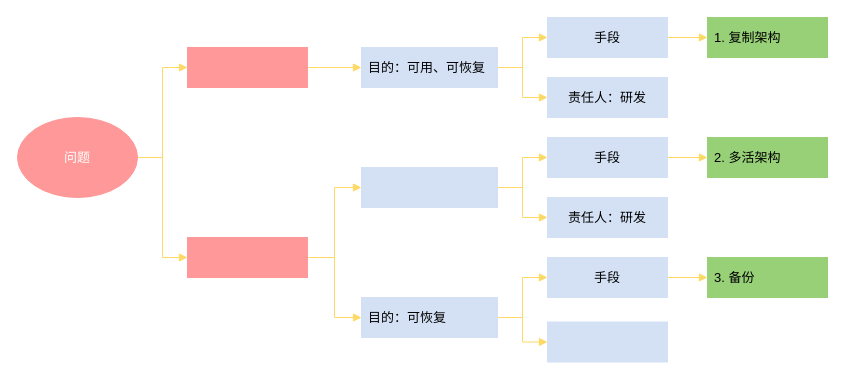
Some shapes in this 845 by 380 pixel diagram are drawn without their labels. The shapes that lost their labels are listed below. From the top down, each one's centre as x and y in pixels, then its label:
pixel 247 67: 故障
pixel 429 187: 目的：可用
pixel 247 257: 灾难
pixel 607 341: 责任人：运维
